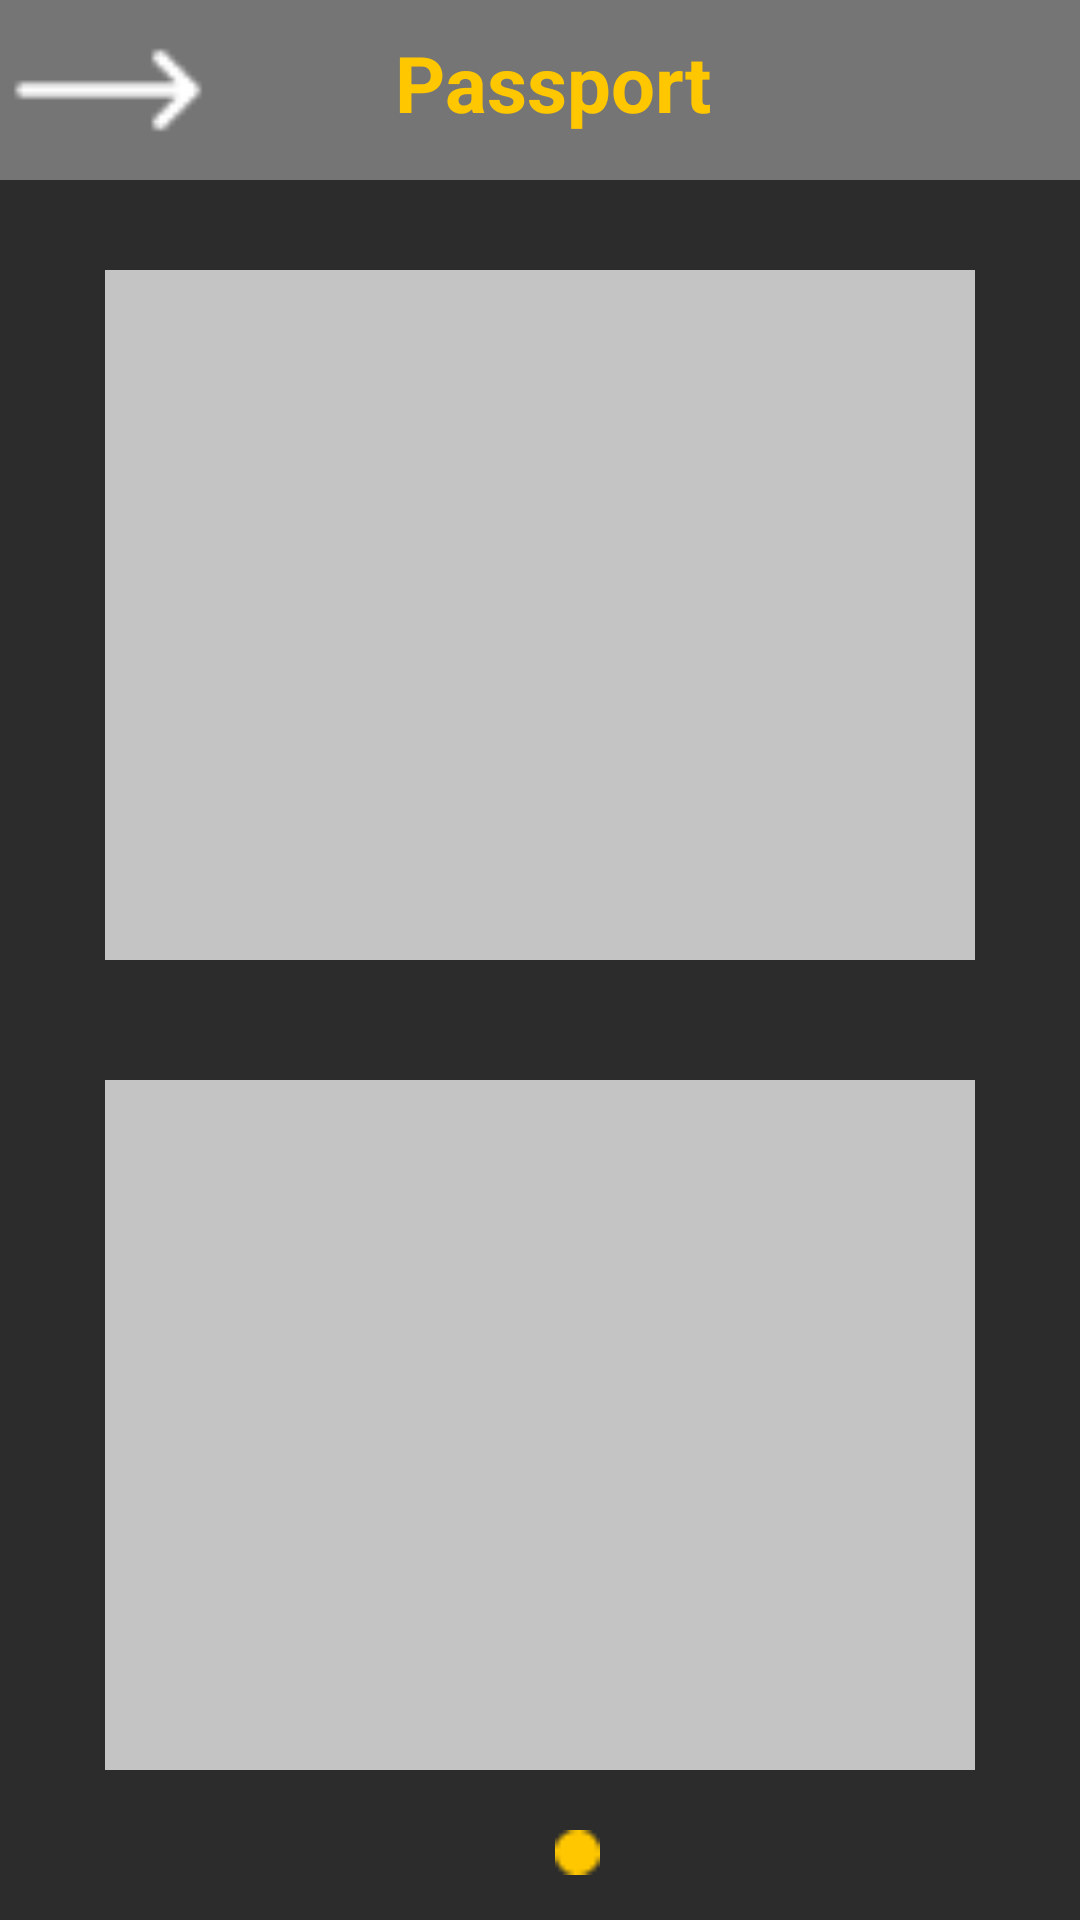

Named icons in this screenshot (1080x1920) and their centers, (x,y):
page circle: (577,1852)
